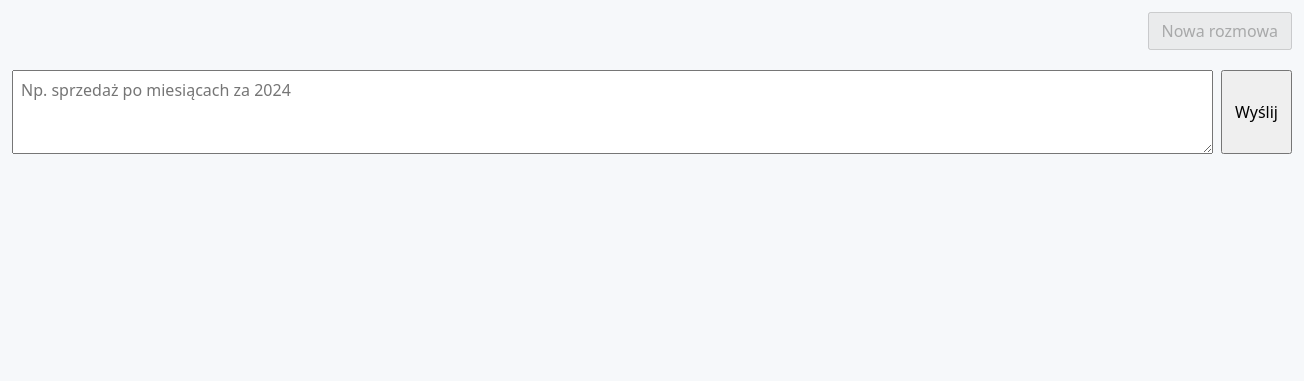
Test case: ChatView › sends the first prompt without a session and the next one with it
Type "Raport za 2024" into the text box named "Twoja prośba". click: x=612, y=112
box: [12,70,1213,154]
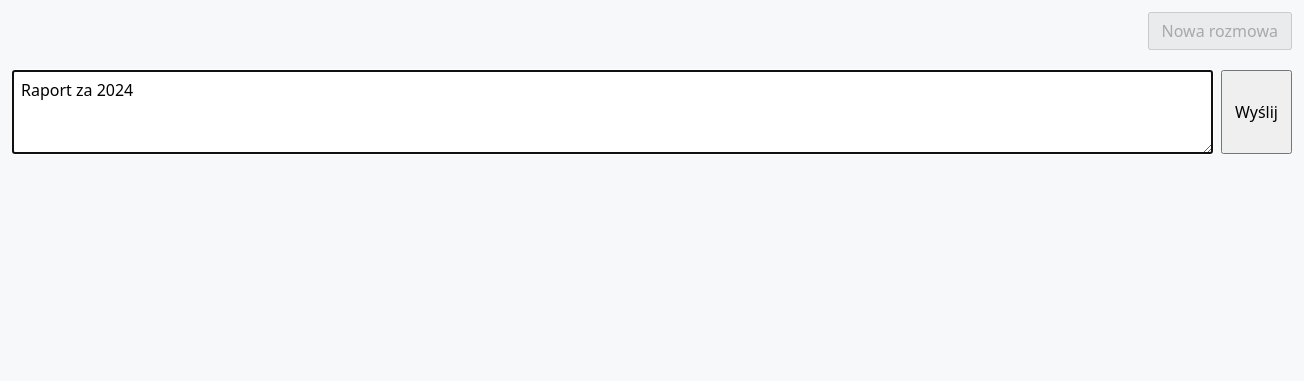
Click the button "Wyślij". click: x=1256, y=112
box: [1221,70,1292,154]
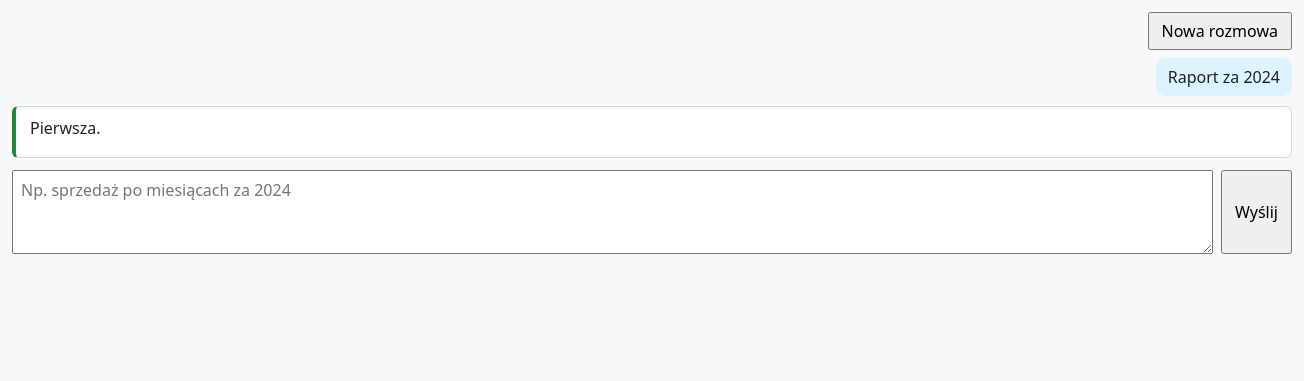
Expected: the text "Pierwsza." is shown, [30,117,100,139]
Type "A za 2023?" into the text box named "Twoja prośba". click: x=612, y=212
box: [12,170,1213,254]
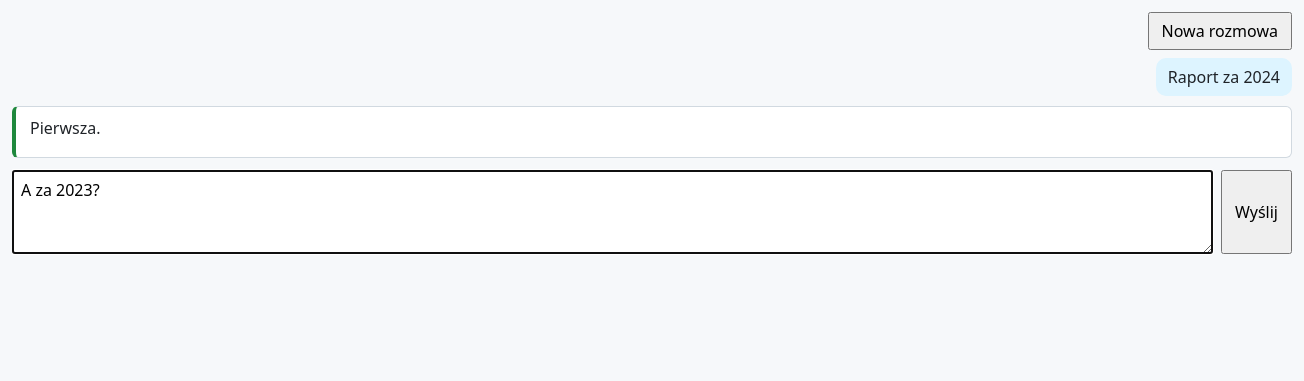
Click the button "Wyślij". click: x=1256, y=212
box: [1221,170,1292,254]
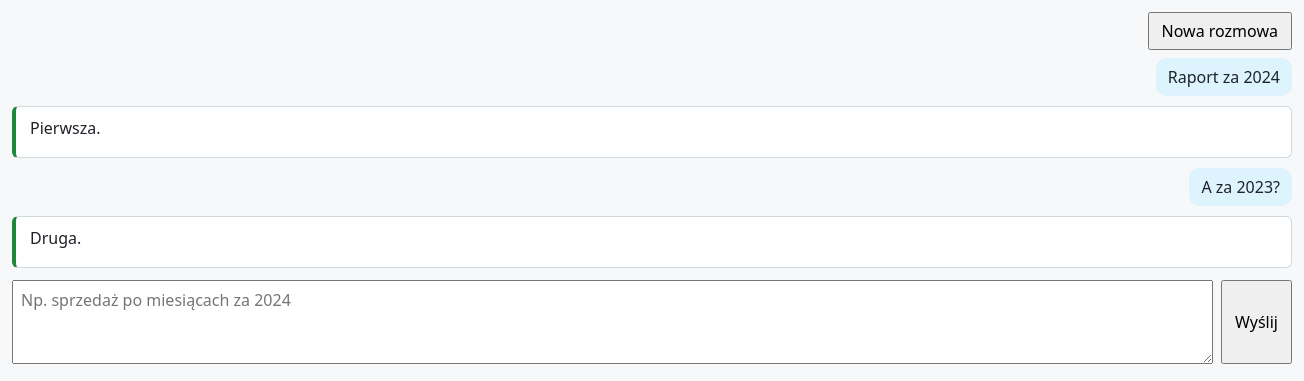
Expected: the text "Druga." is shown, [30,227,81,249]
